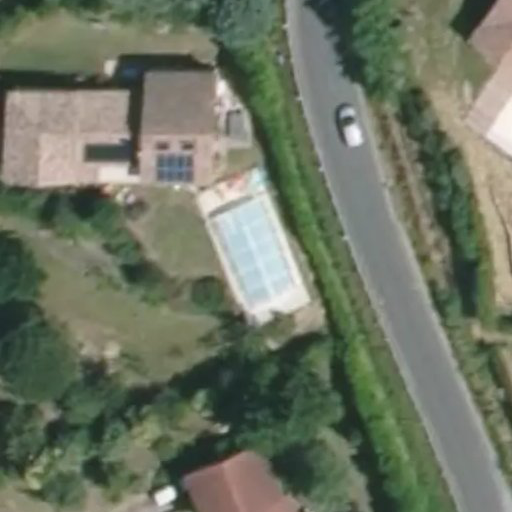pool: (217, 207, 294, 276)
